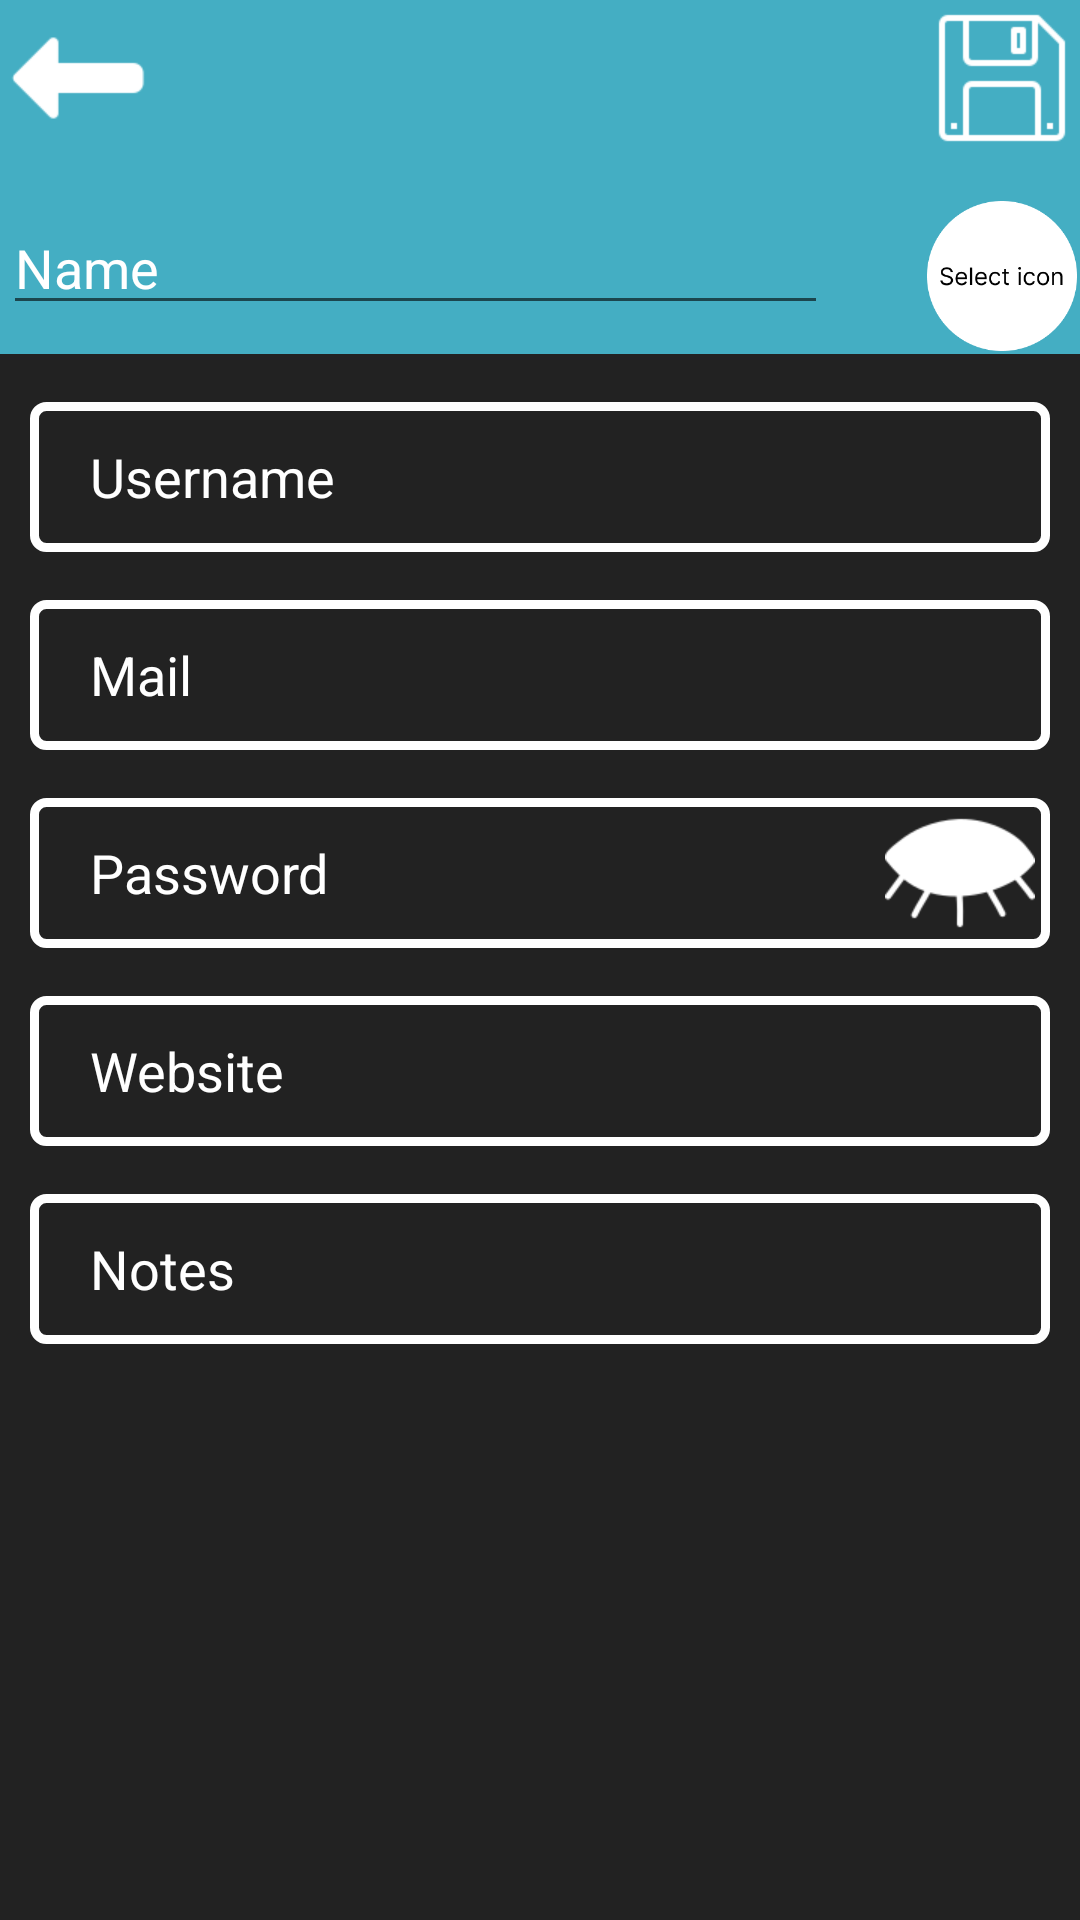

Where to tap for icons on this 1080 x 1920 app screen, as [x,y]:
closedeye: [960,873]
left: [78,78]
save: [1002,78]
